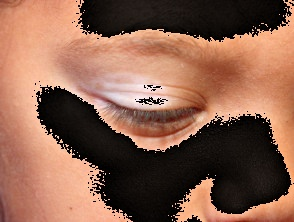vitiligo: (50, 50, 172, 126)
